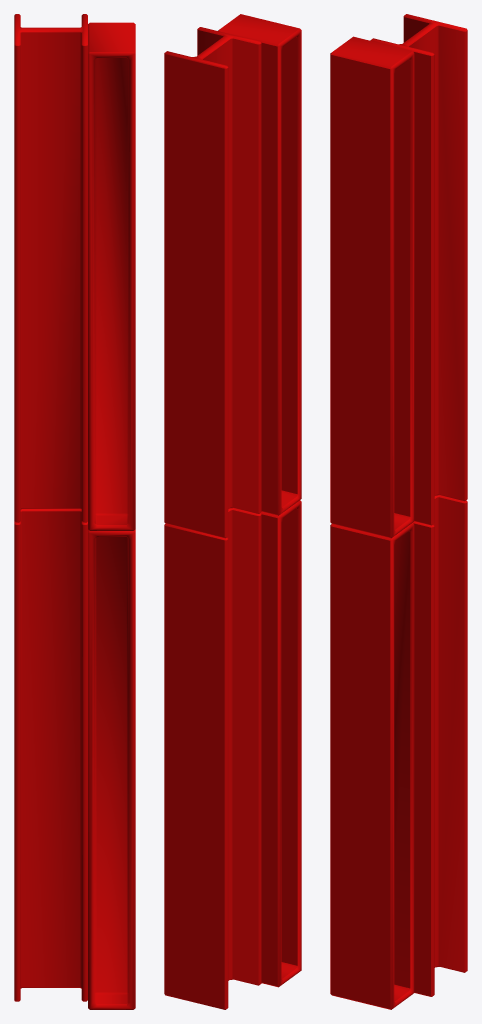
The picture shows the model from 3 angles, left to right: view 1: azimuth 90°, elevation 25°; view 2: azimuth 150°, elevation 25°; view 3: azimuth 330°, elevation 25°; orthographic projection.
Visible parts, largest first — view 1: Mesh; view 2: Mesh; view 3: Mesh.
Part boxes in pixels (left/top/right/bottom): Mesh: left=14, top=14, right=135, bottom=1009; Mesh: left=164, top=14, right=301, bottom=1009; Mesh: left=330, top=14, right=467, bottom=1009.
Size of the model in its own units: 1.41 by 16 by 1.83.
